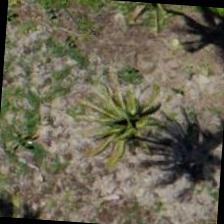Kelapa_Sawit: (85, 80, 181, 176)
